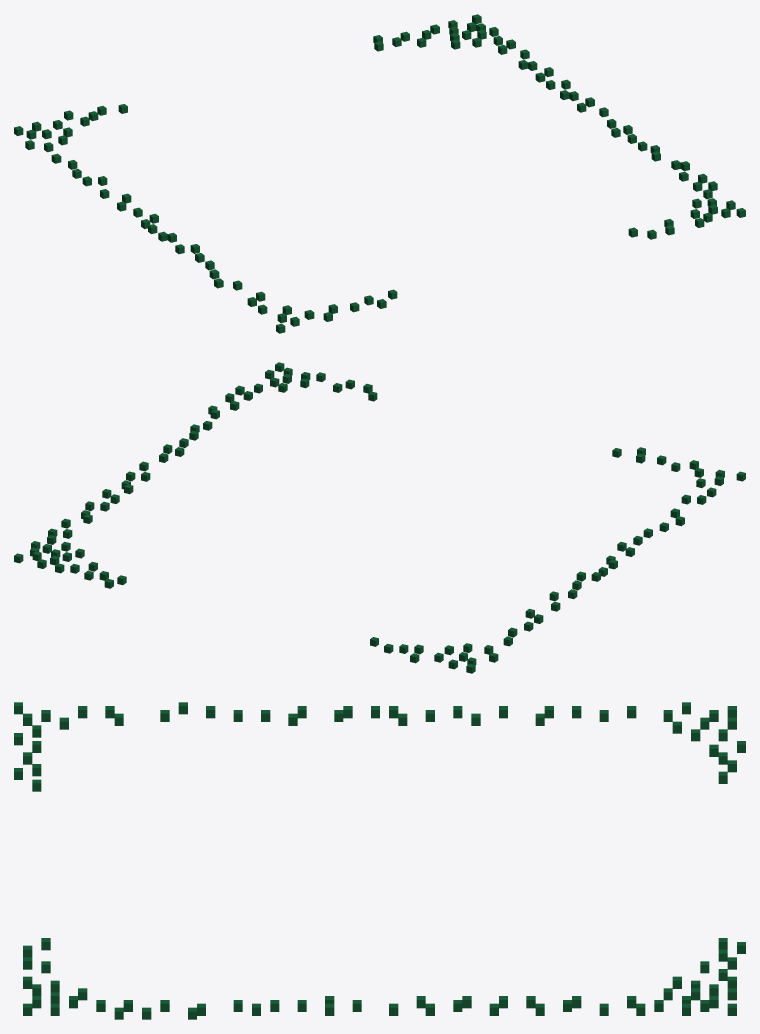
File: river_plants_2_overtile.glb
3 views of the same model, one above another, from view 1: azimuth 30°, elevation 25°; view 2: azimuth 150°, elevation 25°; view 3: azimuth 270°, elevation 25° (orthographic). The views are drawn at different scales.
Parts seen in each view (by area): view 1: river_plants_2_overtile; view 2: river_plants_2_overtile; view 3: river_plants_2_overtile.
Part boxes in pixels (bbox=[...]): river_plants_2_overtile: bbox=[14, 14, 745, 333]; river_plants_2_overtile: bbox=[14, 362, 745, 673]; river_plants_2_overtile: bbox=[14, 702, 745, 1019].
Size of the model in its own units: 8 by 0.1 by 8.
Materials: 1 (1 with a texture image).
